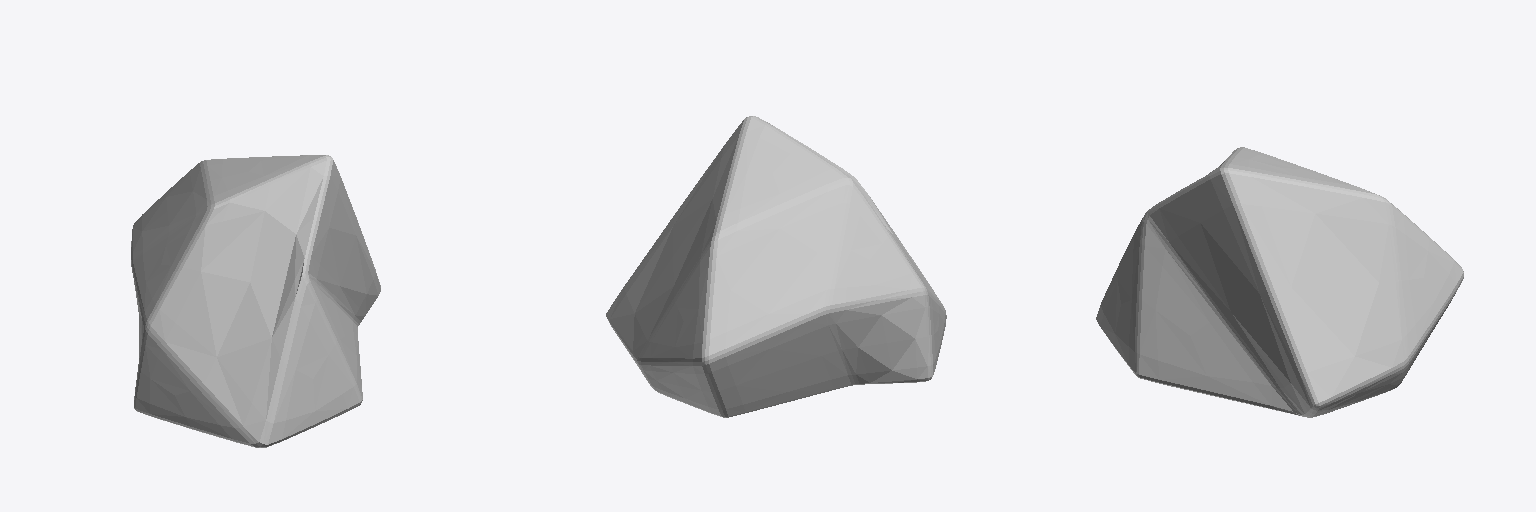
File: rock-tree1-01.obj
The picture shows the model from 3 angles: view 1: azimuth 30°, elevation 25°; view 2: azimuth 150°, elevation 25°; view 3: azimuth 270°, elevation 25°; orthographic projection.
Visible parts, largest first — view 1: rock_tree1_01 Rocks; view 2: rock_tree1_01 Rocks; view 3: rock_tree1_01 Rocks.
Part boxes in pixels (bbox=[...]): rock_tree1_01 Rocks: bbox=[131, 155, 380, 447]; rock_tree1_01 Rocks: bbox=[606, 116, 946, 417]; rock_tree1_01 Rocks: bbox=[1096, 147, 1463, 417].
Bounding box in the file's own units: 0.9762 × 0.7123 × 1.09.